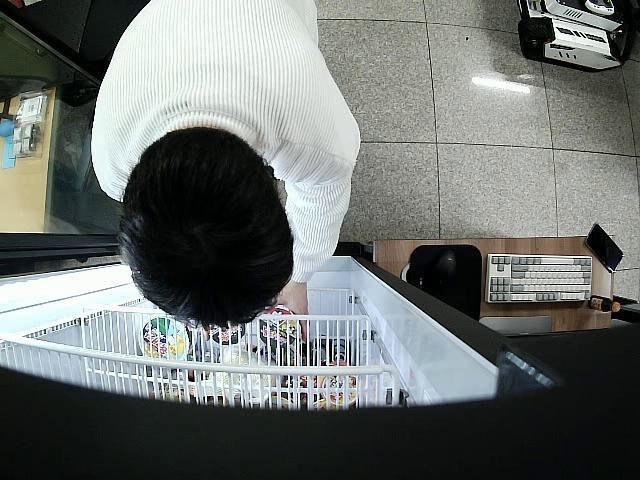08_buldak_S: (260, 308, 298, 348)
